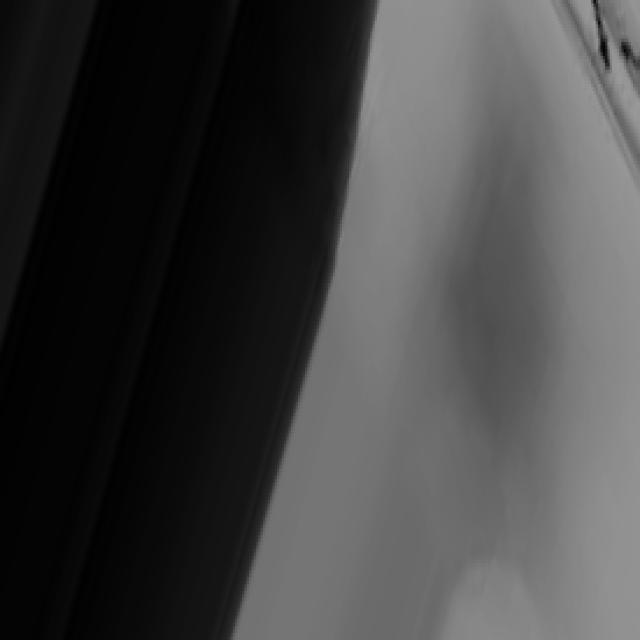larvas: (592, 0, 612, 67), (621, 40, 640, 72)
